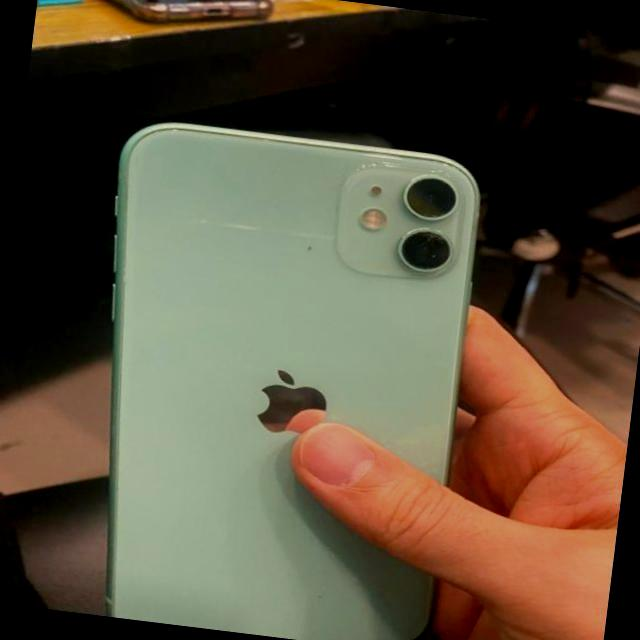lens: (344, 162, 462, 276)
phone: (100, 116, 487, 640)
